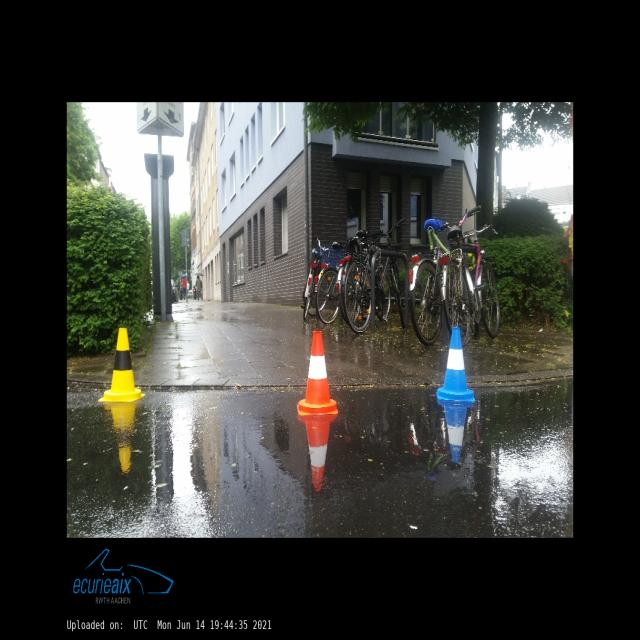blue_cone: (436, 327, 476, 402)
orange_cone: (298, 332, 338, 416)
yellow_cone: (99, 328, 145, 401)
